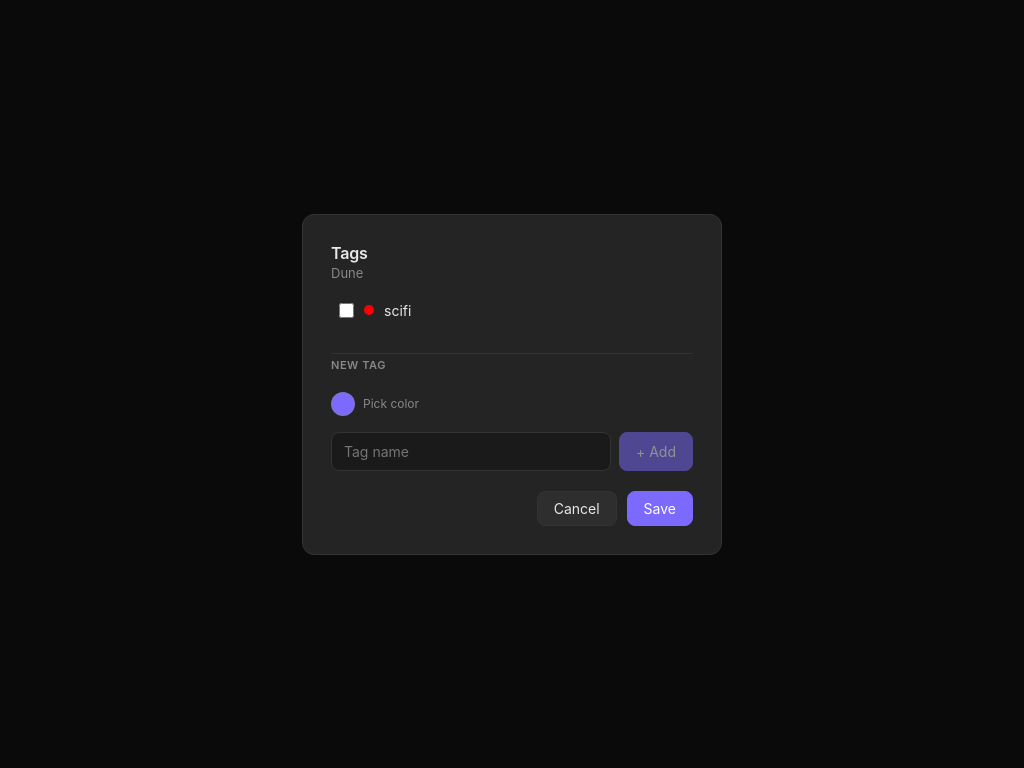
TagsModal › creates a new tag and auto-selects it
In the field with placeholder "Tag name": (471, 451) [331, 432, 611, 470], type "fantasy"
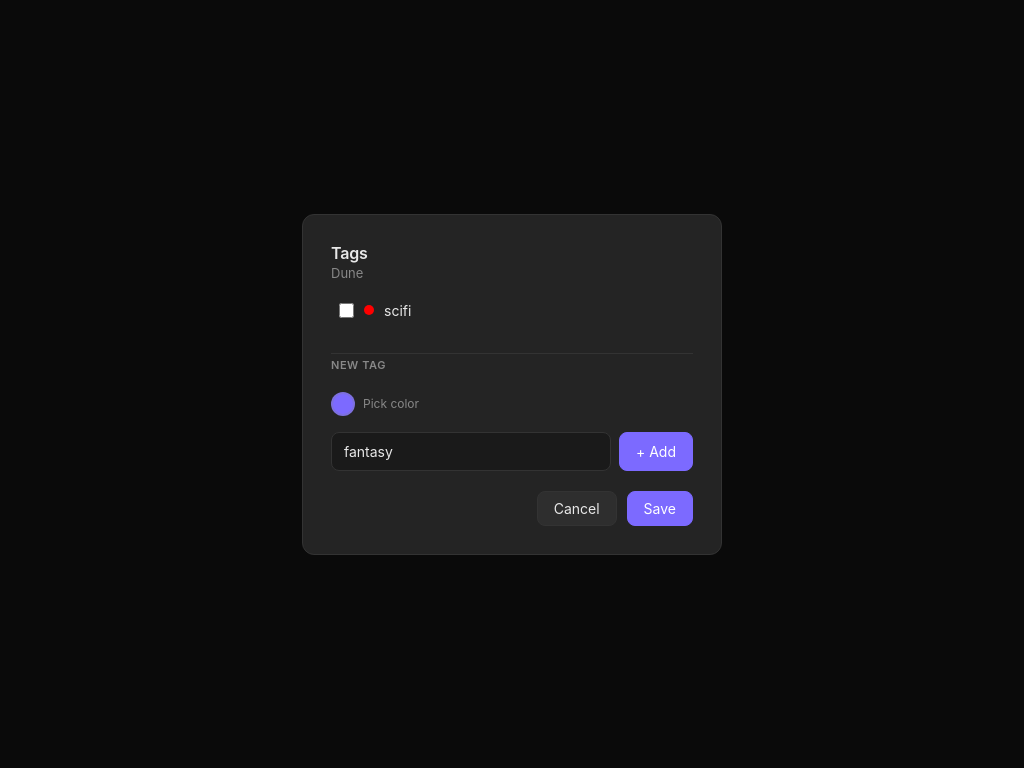
Click the button "+ Add": (656, 451) [619, 432, 693, 470]
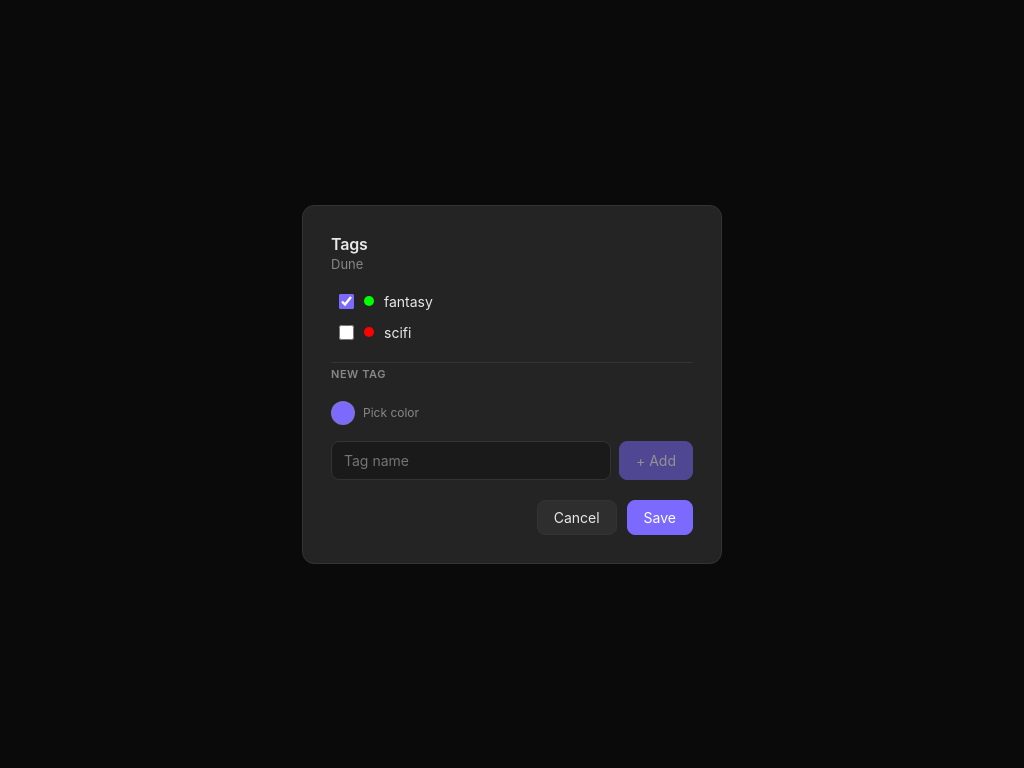
Result: the text "fantasy" is shown at [384, 292, 433, 310]
